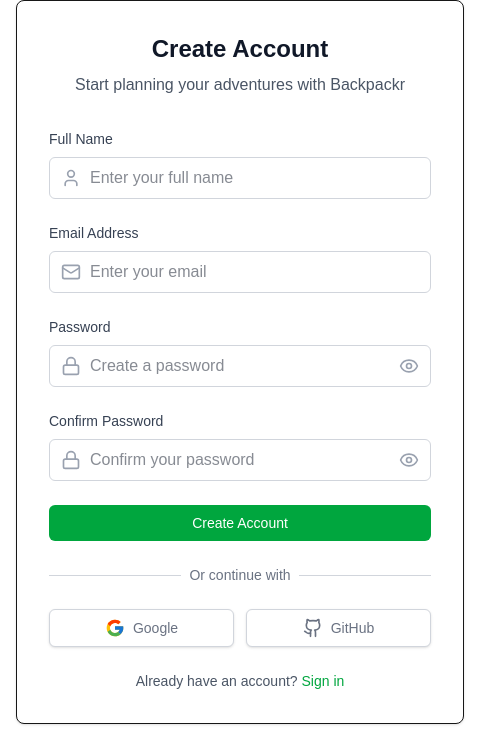
Scenario: SignupForm › Form Submission › successfully submits signup form with unconfirmed user
Type "John Doe" into the field labelled "Full Name" at (240, 178), box left=49, top=157, right=431, bottom=199
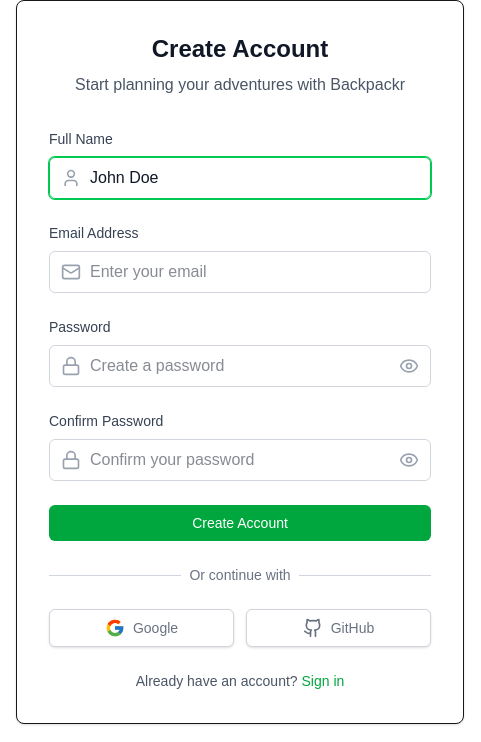
Type "john@example.com" into the field labelled "Email Address" at (240, 272), box left=49, top=251, right=431, bottom=293
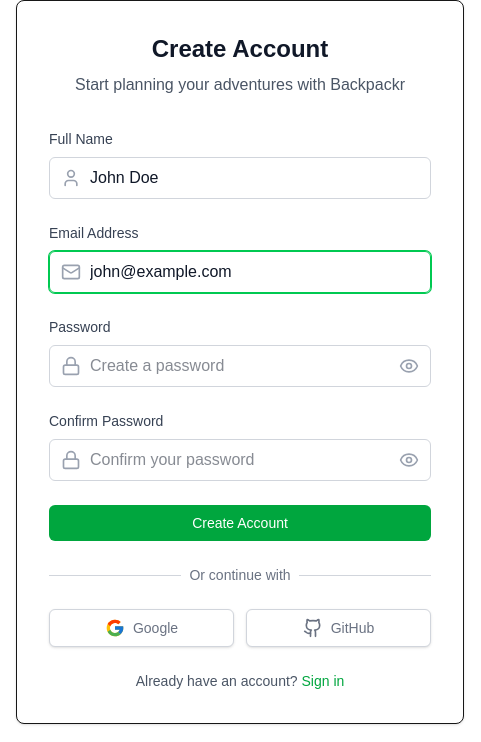
Type "password123" into the password field labelled "Password" at (240, 366), box left=49, top=345, right=431, bottom=387
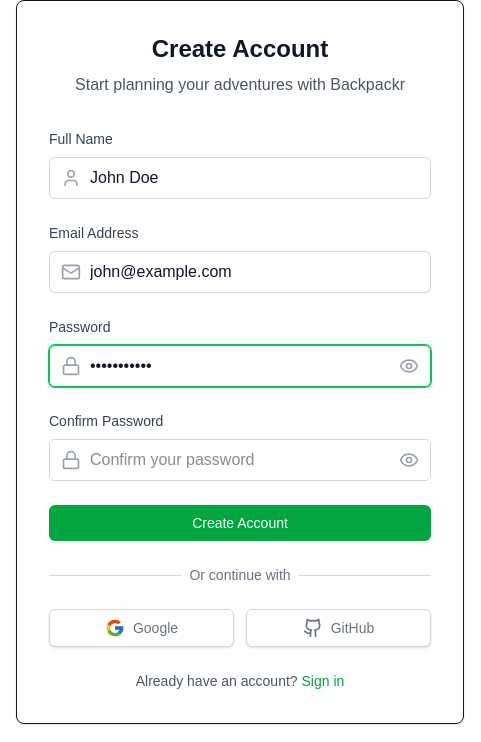
Type "password123" into the password field labelled "Confirm Password" at (240, 460), box left=49, top=439, right=431, bottom=481
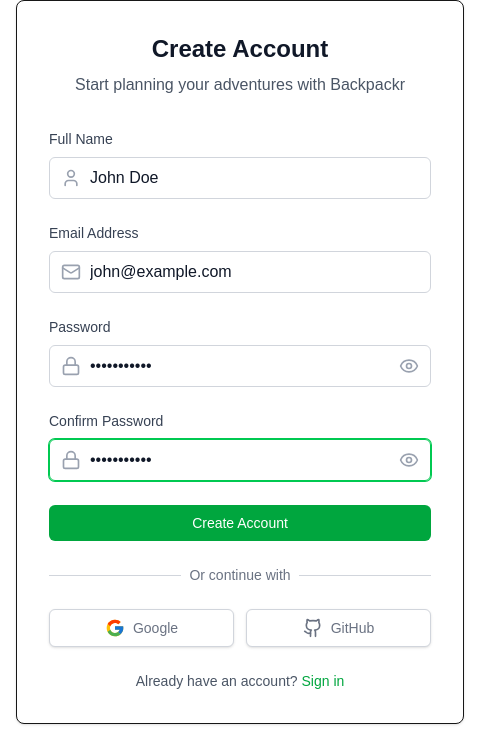
Click the button "Create Account" at (240, 523), box left=49, top=505, right=431, bottom=541
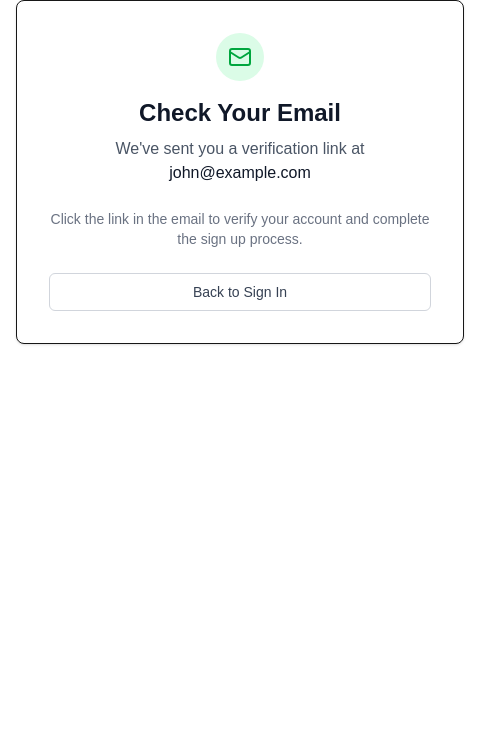
Check: the heading "Check Your Email" is shown, box left=139, top=99, right=341, bottom=126
